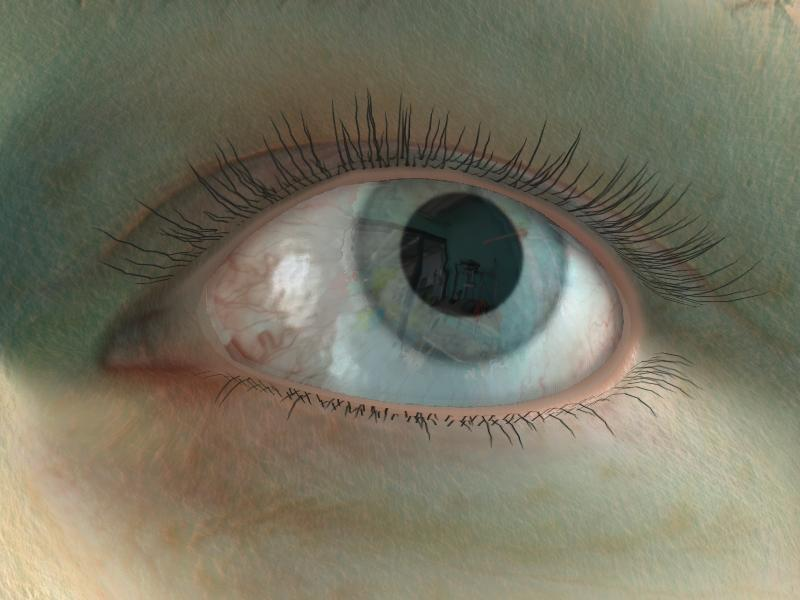eye: (354, 174, 564, 364)
